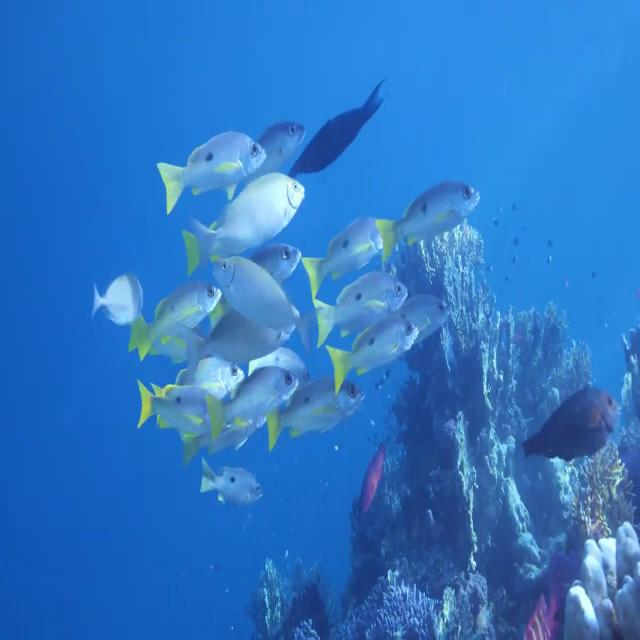fish: (287, 72, 393, 185), (185, 165, 305, 263), (509, 381, 616, 489), (374, 172, 484, 269), (218, 242, 311, 352), (294, 202, 398, 300), (149, 128, 263, 217), (128, 277, 224, 368), (268, 368, 369, 452), (309, 260, 405, 348), (322, 307, 418, 389), (205, 356, 302, 430), (195, 443, 272, 514), (135, 369, 217, 433), (391, 272, 456, 341), (90, 264, 147, 337), (353, 436, 393, 524), (256, 112, 304, 174), (517, 579, 565, 640)
